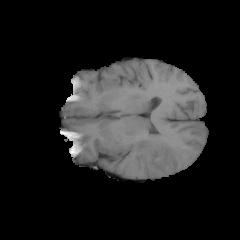glioma: (122, 133, 183, 177)
